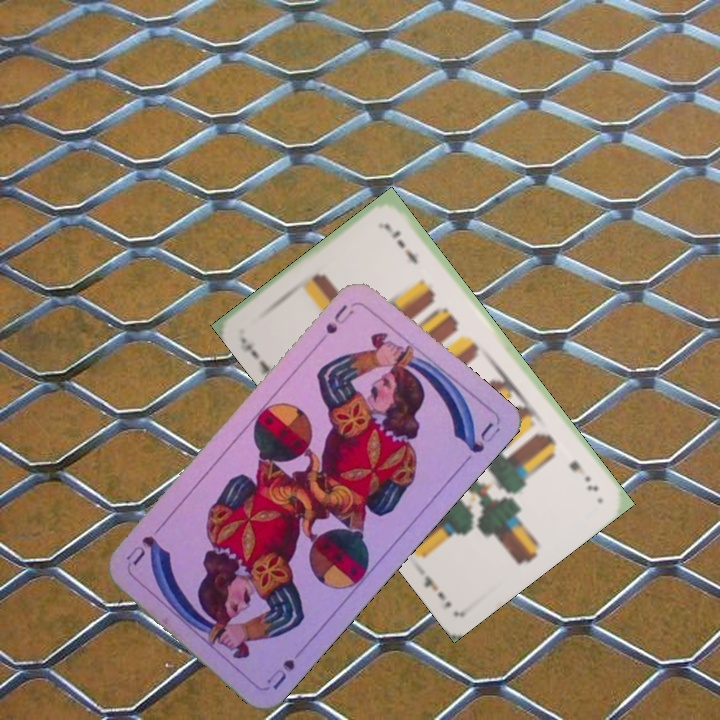E7: (236, 333, 274, 377), (565, 456, 601, 494)
SU: (262, 641, 309, 692), (321, 300, 357, 337)
